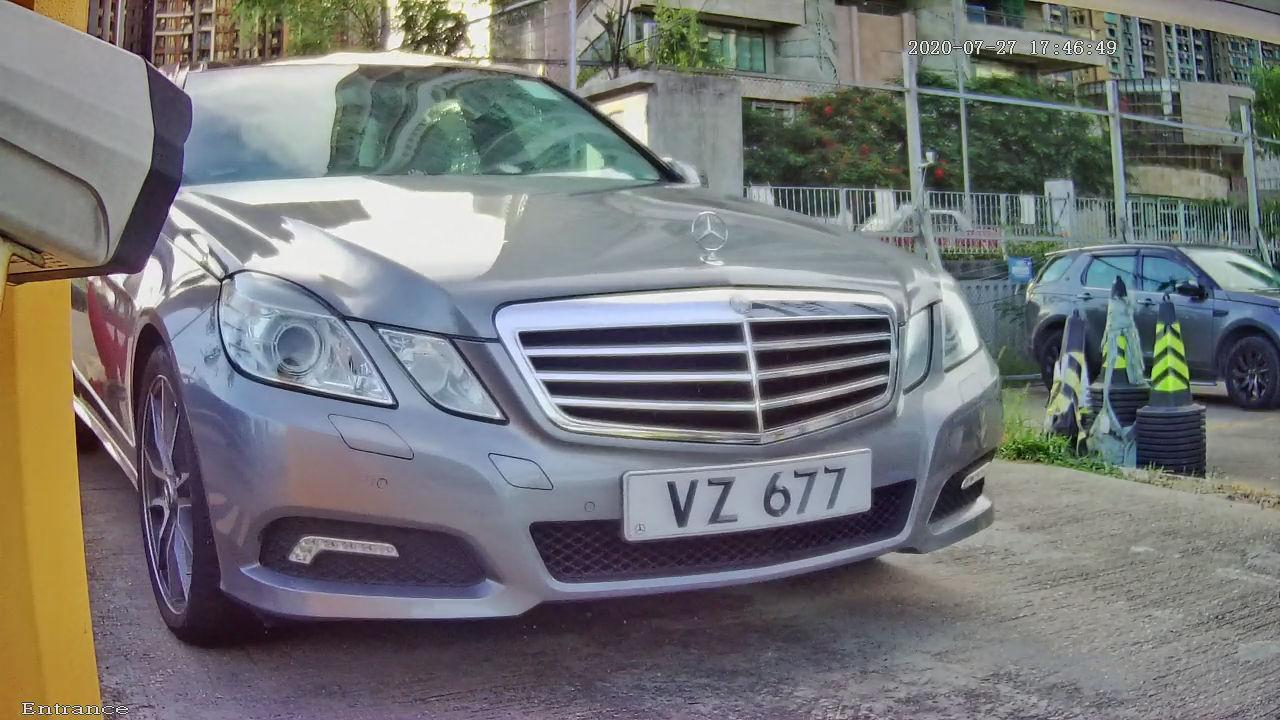privatecar: (63, 20, 1109, 666)
